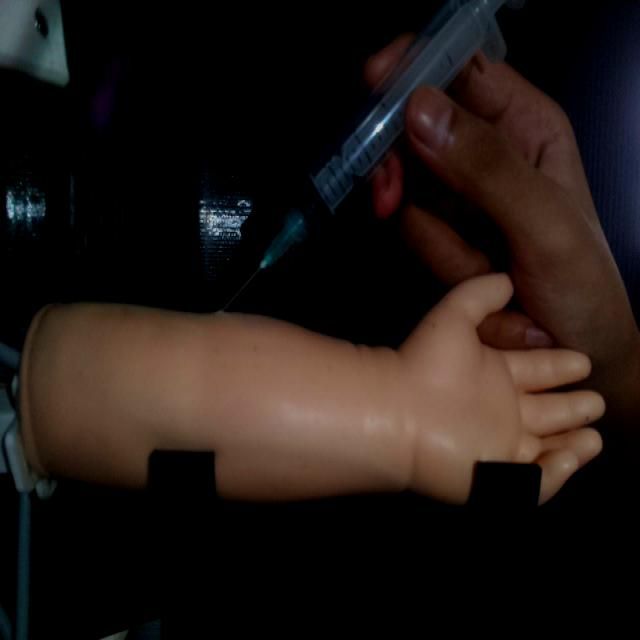Above 30 degrees: (212, 0, 528, 313)
